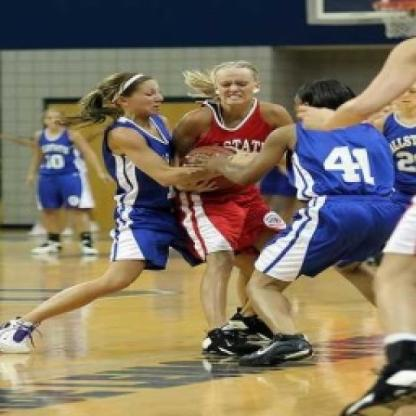basketball: (176, 145, 236, 194)
